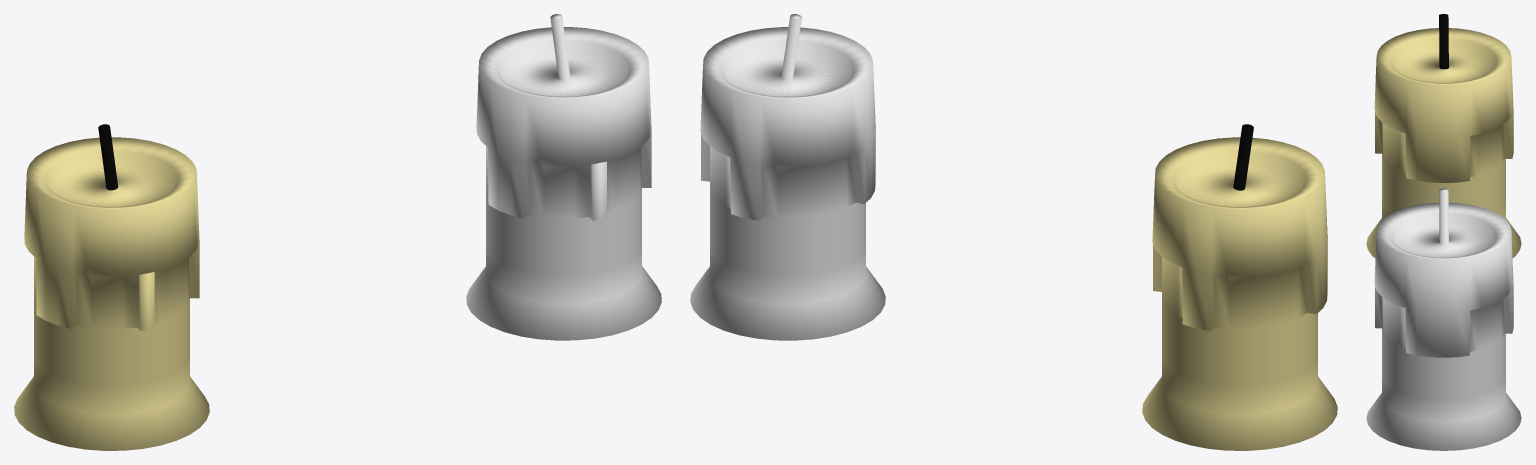
File: Low Poly Candle + Functional light.fbx
The picture shows the model from 3 angles, left to right: view 1: azimuth 30°, elevation 25°; view 2: azimuth 150°, elevation 25°; view 3: azimuth 270°, elevation 25°; orthographic projection. The views are drawn at different scales.
Visible parts, largest first — view 1: Cylinder, Cylinder.001; view 2: Cylinder.001, Cylinder; view 3: Cylinder.001, Cylinder.
Boxes of the visible parts, bbox=[...] form: Cylinder: bbox=[14, 124, 209, 450]; Cylinder.001: bbox=[466, 14, 661, 340]; Cylinder.001: bbox=[690, 14, 885, 340]; Cylinder: bbox=[1142, 124, 1337, 450]; Cylinder.001: bbox=[1366, 188, 1521, 450]; Cylinder: bbox=[1366, 14, 1521, 257].
Bounding box in the file's own units: 919 × 403 × 251.
